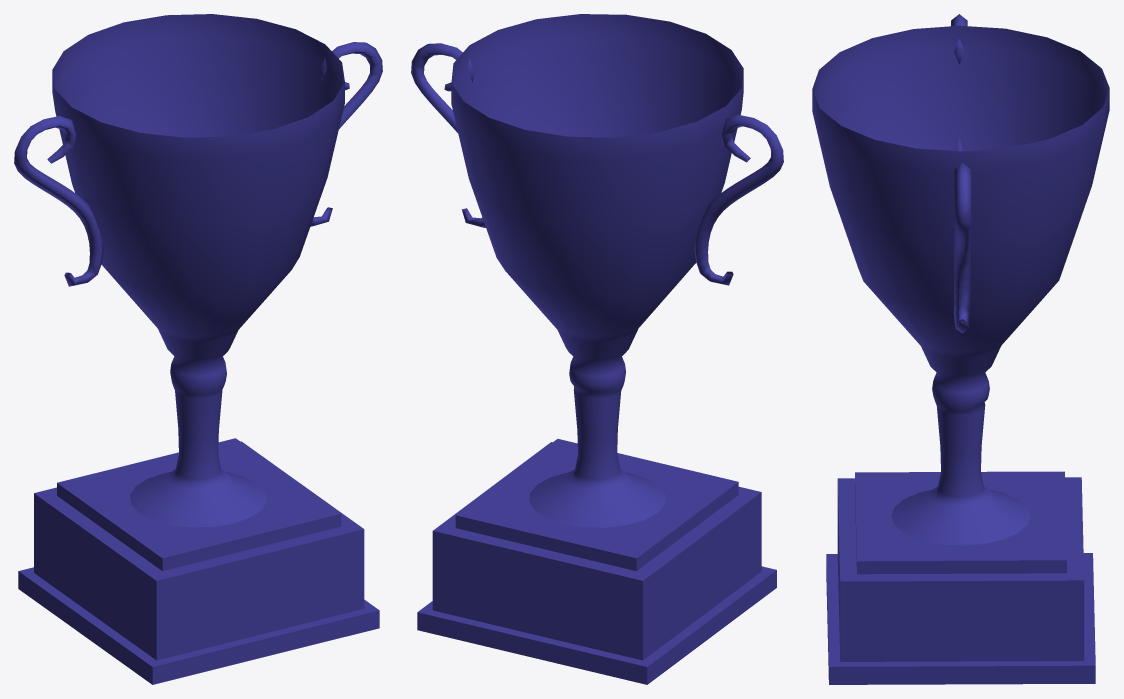
Rendered from Trophy_1.fbx.
The picture shows the model from 3 angles, left to right: view 1: azimuth 30°, elevation 25°; view 2: azimuth 150°, elevation 25°; view 3: azimuth 270°, elevation 25°; orthographic projection.
Visible parts, largest first — view 1: Trophy_1; view 2: Trophy_1; view 3: Trophy_1.
Part boxes in pixels (box(x1,y1,x2,y2)): Trophy_1: box(14, 14, 382, 684); Trophy_1: box(411, 14, 783, 684); Trophy_1: box(812, 14, 1109, 684).
Size of the model in its own units: 98.91 by 136 by 67.94.
